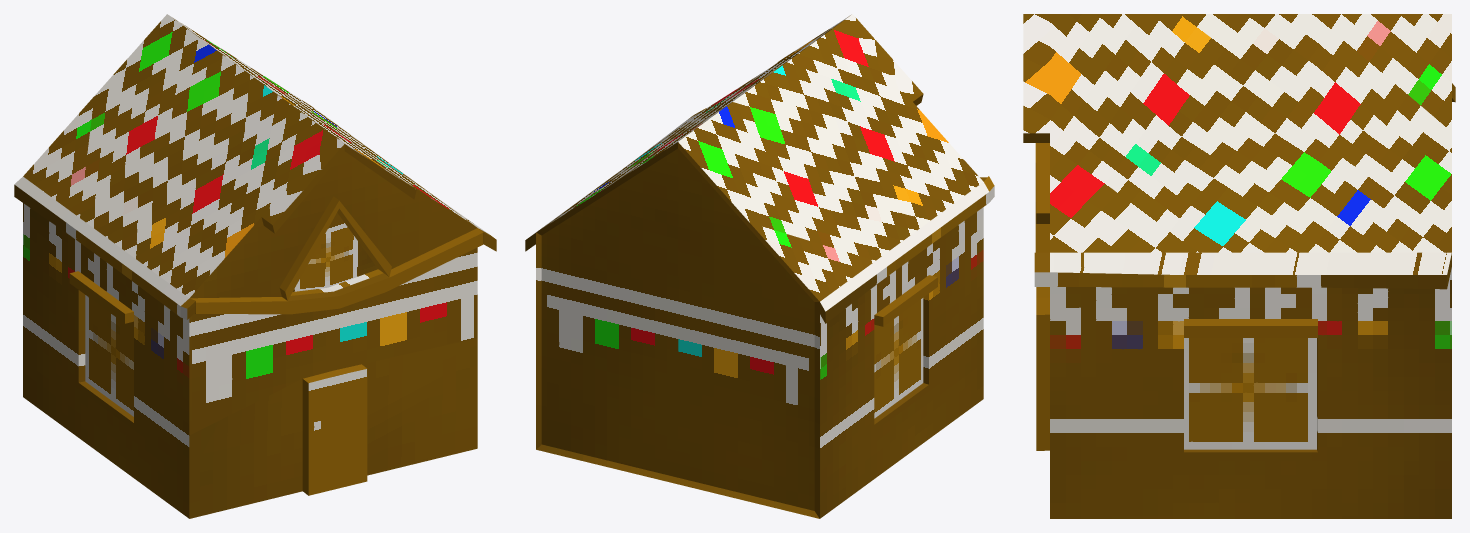
File: GingerbreadHouse.fbx
3 renders of one model, left to right at view 1: azimuth 30°, elevation 25°; view 2: azimuth 150°, elevation 25°; view 3: azimuth 270°, elevation 25°, orthographic. The views are drawn at different scales.
Parts seen in each view (by area): view 1: Gbhouse; view 2: Gbhouse; view 3: Gbhouse.
Boxes of the visible parts, <box> form: Gbhouse: <box>14,14,496,518</box>; Gbhouse: <box>525,14,994,518</box>; Gbhouse: <box>1023,14,1455,518</box>.
Size of the model in its own units: 36.23 by 38.89 by 36.22.
